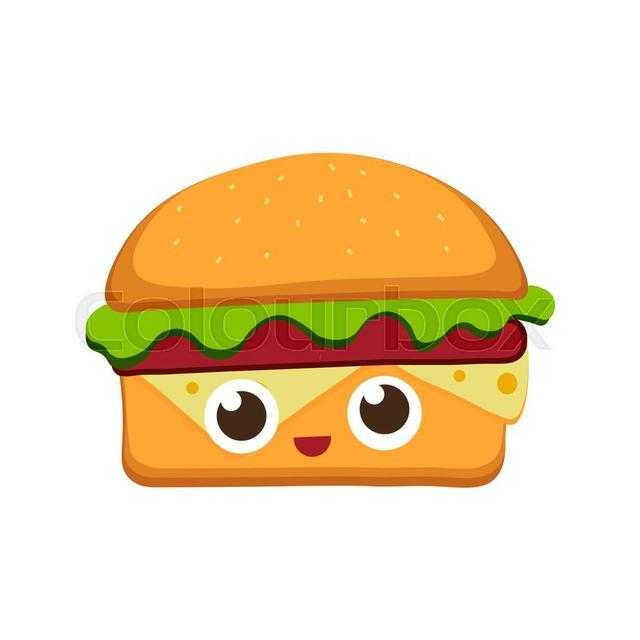hamburger: (96, 161, 568, 491)
